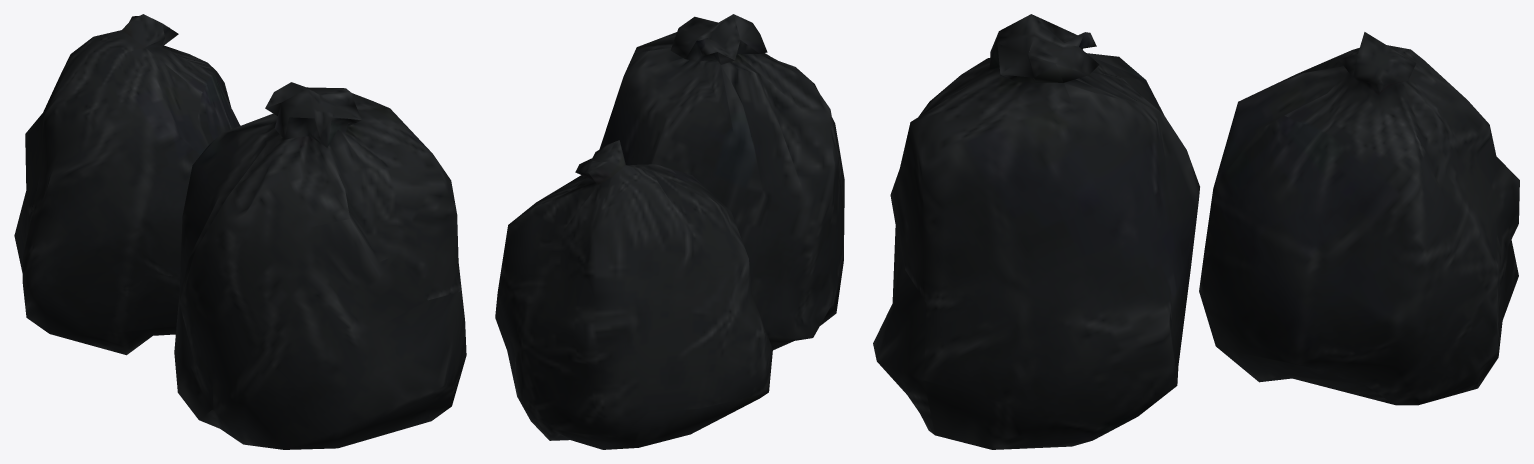
File: trash-bags.lod0.glb
3 renders of one model, left to right at view 1: azimuth 30°, elevation 25°; view 2: azimuth 150°, elevation 25°; view 3: azimuth 270°, elevation 25°, orthographic. The views are drawn at different scales.
Parts seen in each view (by area): view 1: bag1_garbagebags_0; view 2: bag1_garbagebags_0; view 3: bag1_garbagebags_0.
Part boxes in pixels (box(x1,y1,x2,y2)): bag1_garbagebags_0: box(14, 14, 466, 449); bag1_garbagebags_0: box(495, 14, 844, 449); bag1_garbagebags_0: box(873, 14, 1519, 449).
Bounding box in the file's own units: 1.1 × 1.19 × 1.81.
Materials: 1 (1 with a texture image).
